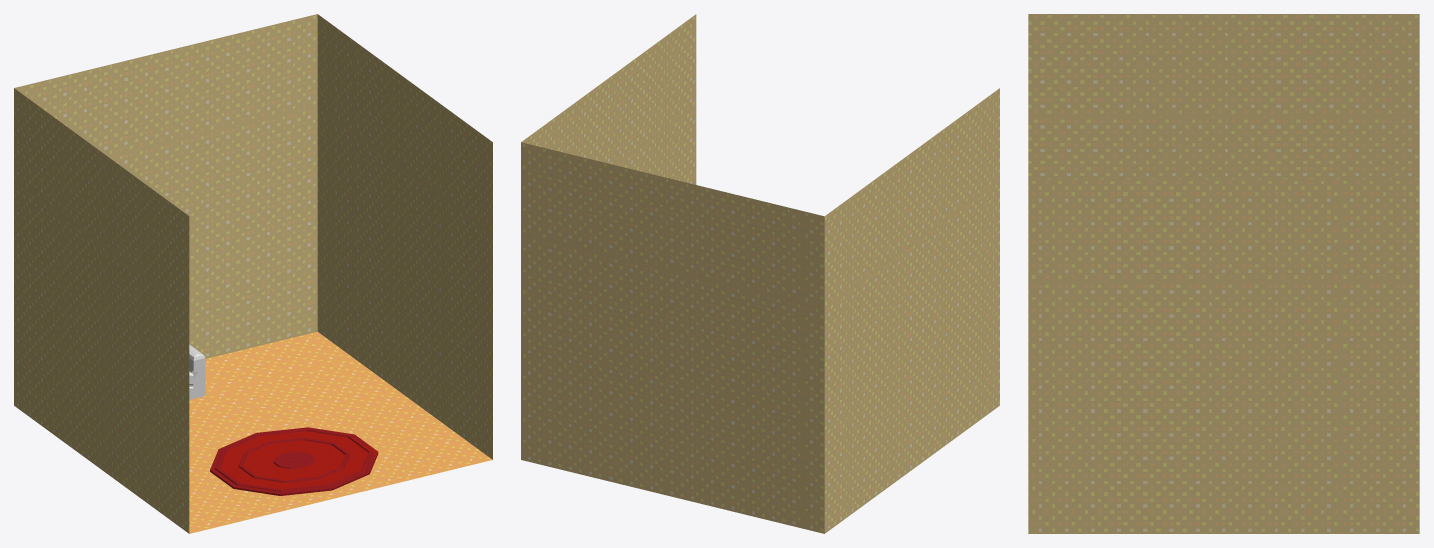
Rendered from casamuitoengracada.glb.
3 views of the same model, side by side, from view 1: azimuth 30°, elevation 25°; view 2: azimuth 150°, elevation 25°; view 3: azimuth 270°, elevation 25° (orthographic). The views are drawn at different scales.
Parts seen in each view (by area): view 1: Cube, Cube.001, Cylinder, Cube.002; view 2: Cube; view 3: Cube.
Boxes of the visible parts, x1,y1,x2,y2 form: Cube: (14,14,492,533); Cube.001: (189,331,492,533); Cylinder: (210,427,378,495); Cube.002: (189,344,205,399); Cube: (521,14,999,533); Cube: (1028,14,1419,533).
Bounding box in the file's own units: 16 × 16 × 16.
3 materials, 3 textured.
